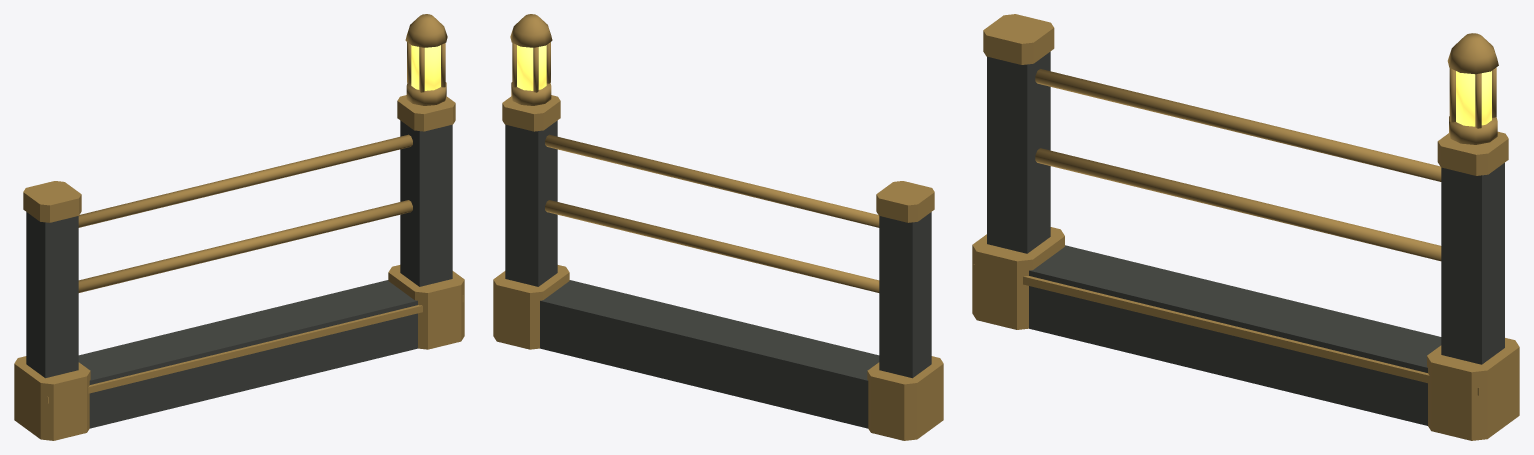
The model's file is b1_rail_lamp.glb.
The picture shows the model from 3 angles, left to right: view 1: azimuth 30°, elevation 25°; view 2: azimuth 150°, elevation 25°; view 3: azimuth 330°, elevation 25°; orthographic projection. The views are drawn at different scales.
Parts seen in each view (by area): view 1: b1_rail_lamp; view 2: b1_rail_lamp; view 3: b1_rail_lamp.
Boxes of the visible parts, bbox=[...] form: b1_rail_lamp: bbox=[14, 14, 464, 440]; b1_rail_lamp: bbox=[493, 14, 943, 440]; b1_rail_lamp: bbox=[972, 14, 1519, 440].
Bounding box in the file's own units: 2.04 × 1.45 × 0.3.
